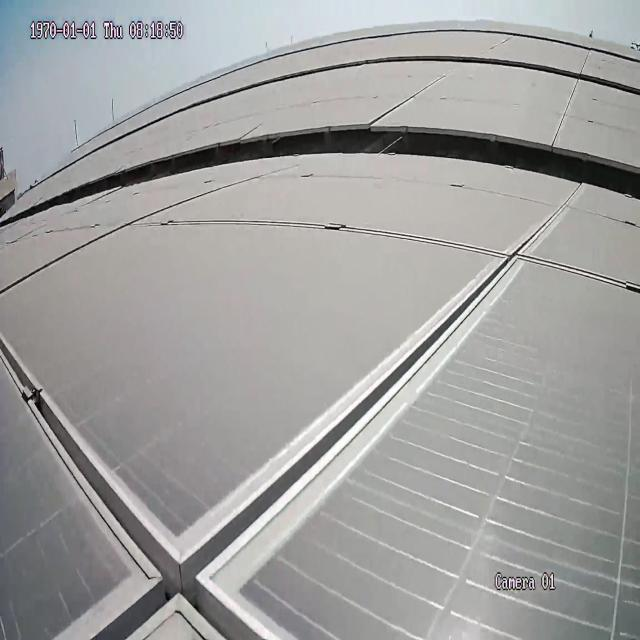interior panel: (3, 189, 587, 640), (373, 76, 452, 125), (550, 76, 584, 142)
outher panel: (13, 125, 640, 226)
